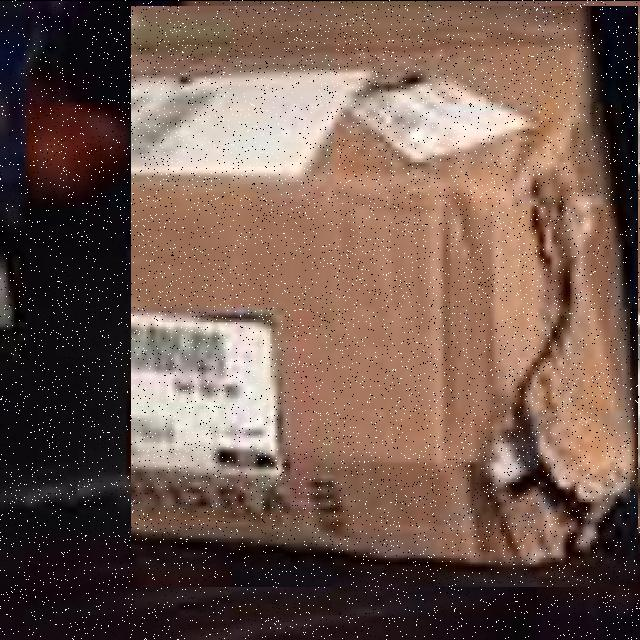defect: (131, 5, 638, 586)
